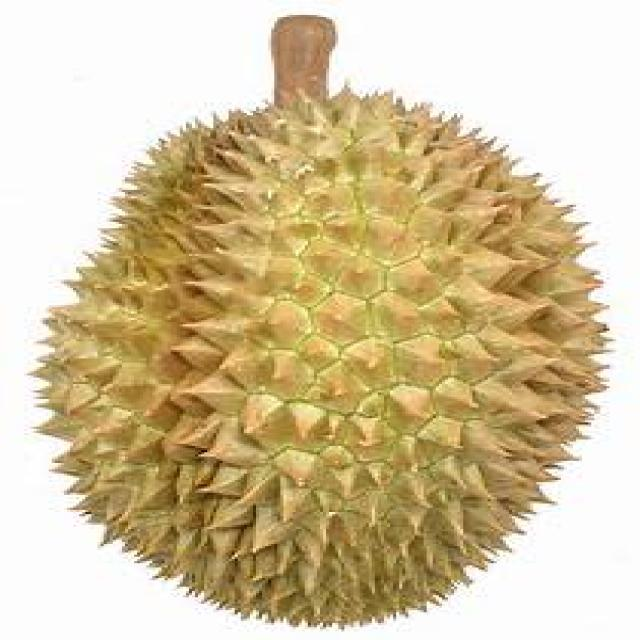mature: (38, 91, 604, 624)
